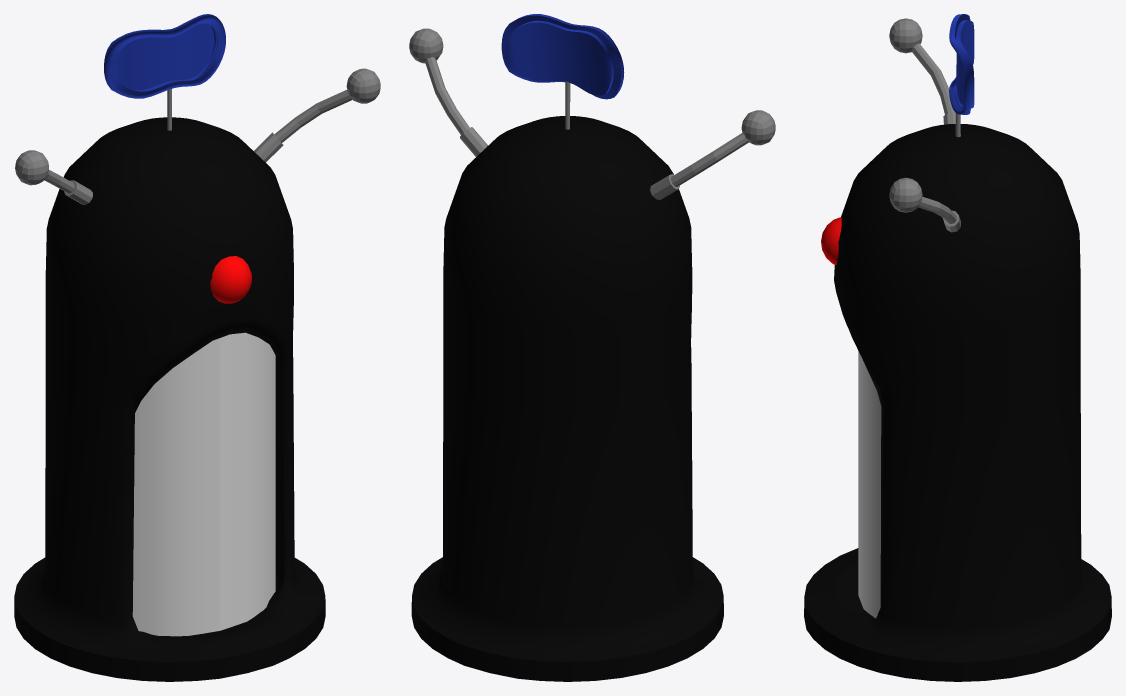
Rendered from Upgradetube test 3.fbx.
3 views of the same model, side by side, from view 1: azimuth 30°, elevation 25°; view 2: azimuth 150°, elevation 25°; view 3: azimuth 270°, elevation 25° (orthographic).
Parts seen in each view (by area): view 1: Capsule002, Right, Left Door, Goggles, eares, Sphere001; view 2: Capsule002, Goggles, eares; view 3: Capsule002, Left Door, eares, Goggles, Sphere001.
Boxes of the visible parts, x1,y1,x2,y2 form: Capsule002: [14, 117, 325, 681]; Right: [132, 338, 220, 636]; Left Door: [220, 332, 275, 630]; Goggles: [104, 14, 225, 98]; eares: [15, 68, 380, 205]; Sphere001: [210, 256, 251, 303]; Capsule002: [411, 116, 723, 681]; Goggles: [501, 14, 624, 99]; eares: [409, 28, 775, 199]; Capsule002: [804, 124, 1111, 681]; Left Door: [858, 351, 881, 618]; eares: [889, 18, 960, 232]; Goggles: [949, 14, 974, 114]; Sphere001: [821, 217, 841, 264].
Size of the model in its own units: 261 by 410 by 195.
